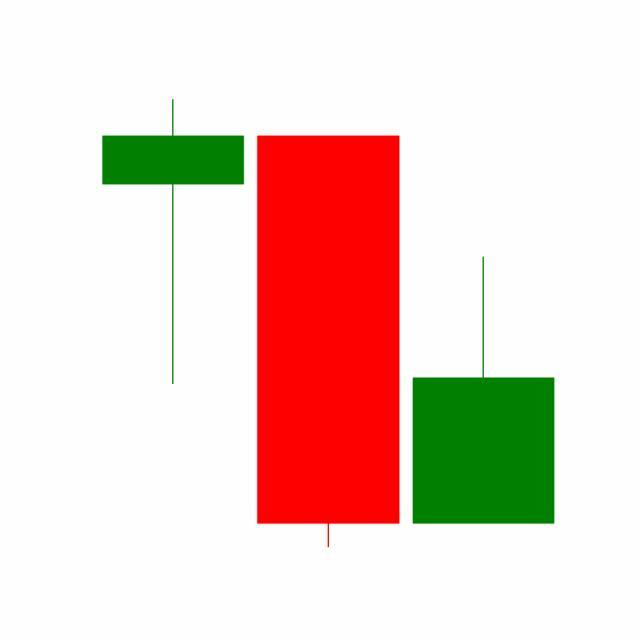Marubozu: (250, 132, 407, 553)
